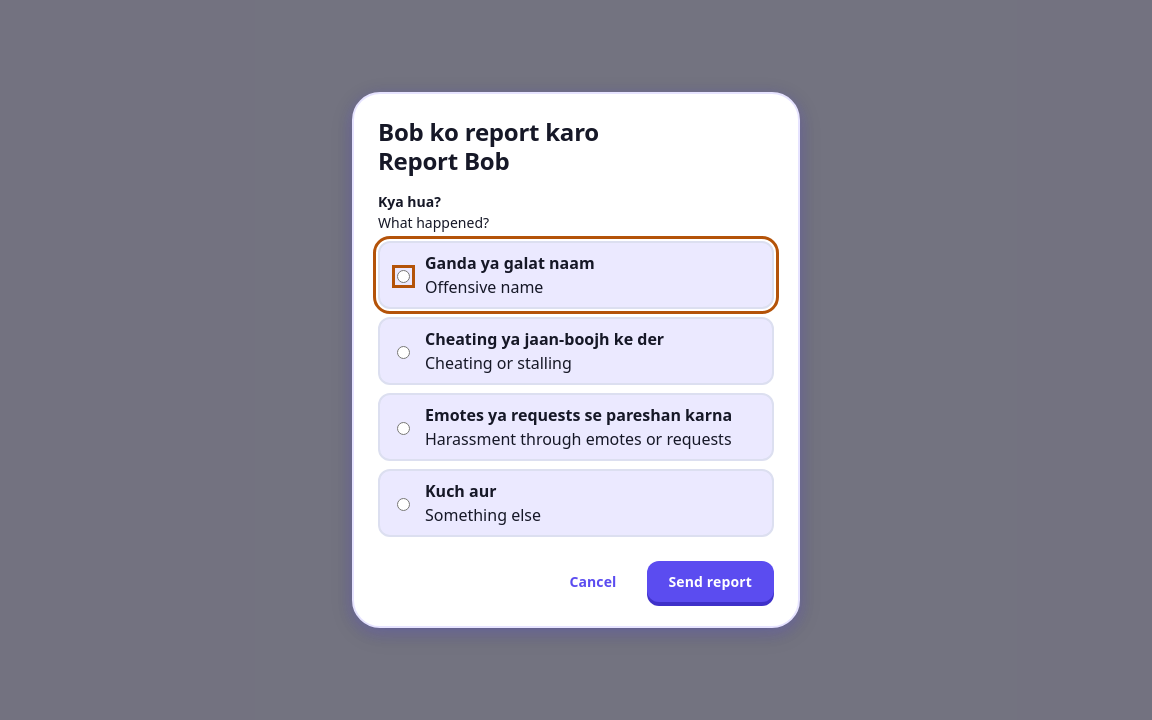
Test: ReportDialog (CC-044) › sends nothing until a reason is picked
Click the button "Send report": (710, 582) [646,561,774,602]
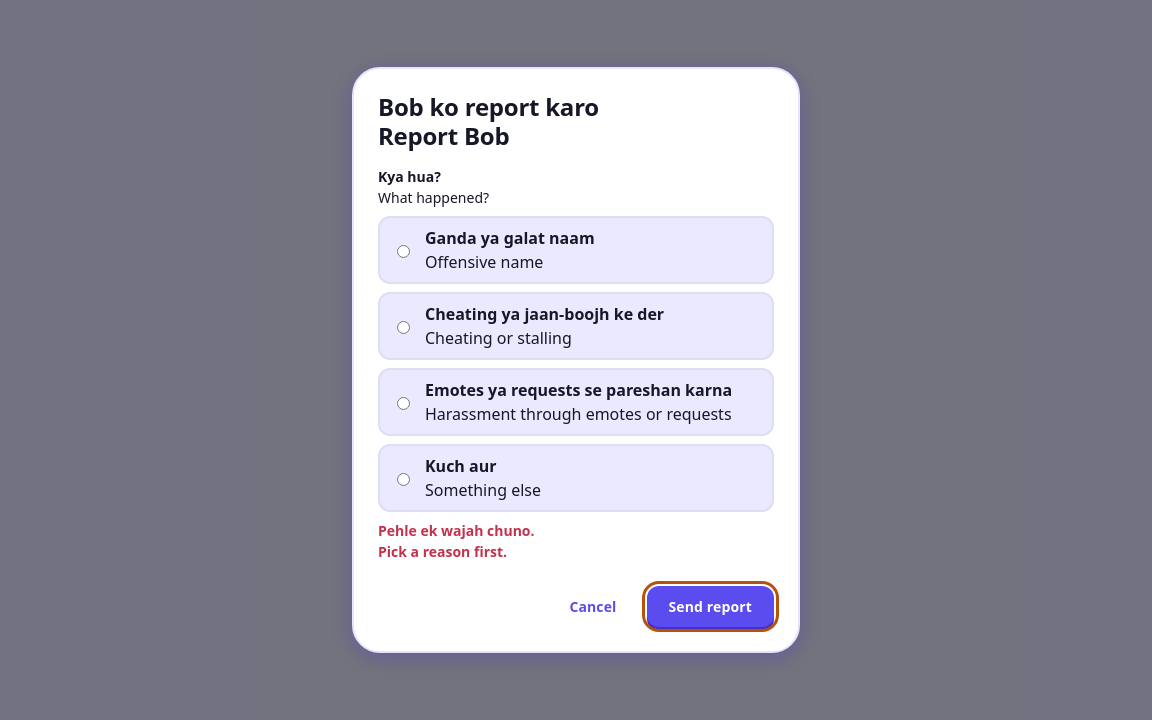
Expected: the text "Pick a reason first." is shown, [378,542,507,561]
